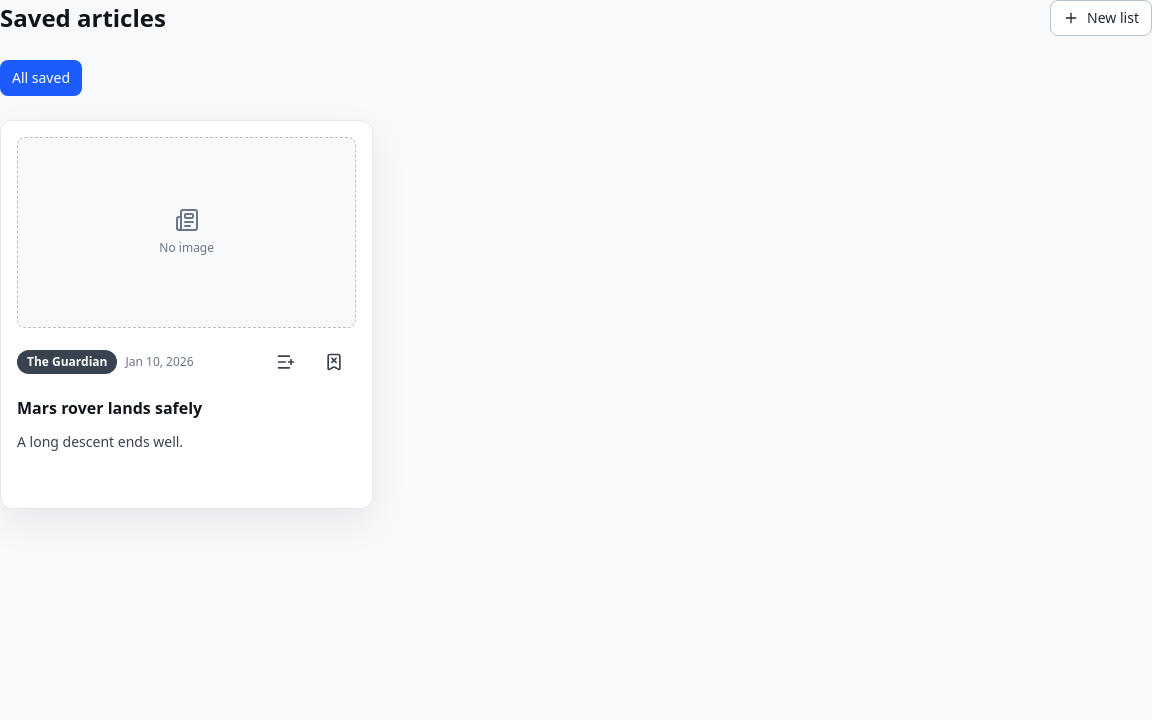
Test: BookmarksPage — reading lists › creates a list from the dialog and says so
Click the button "New list" at (1101, 18), box [1050,0,1151,36]
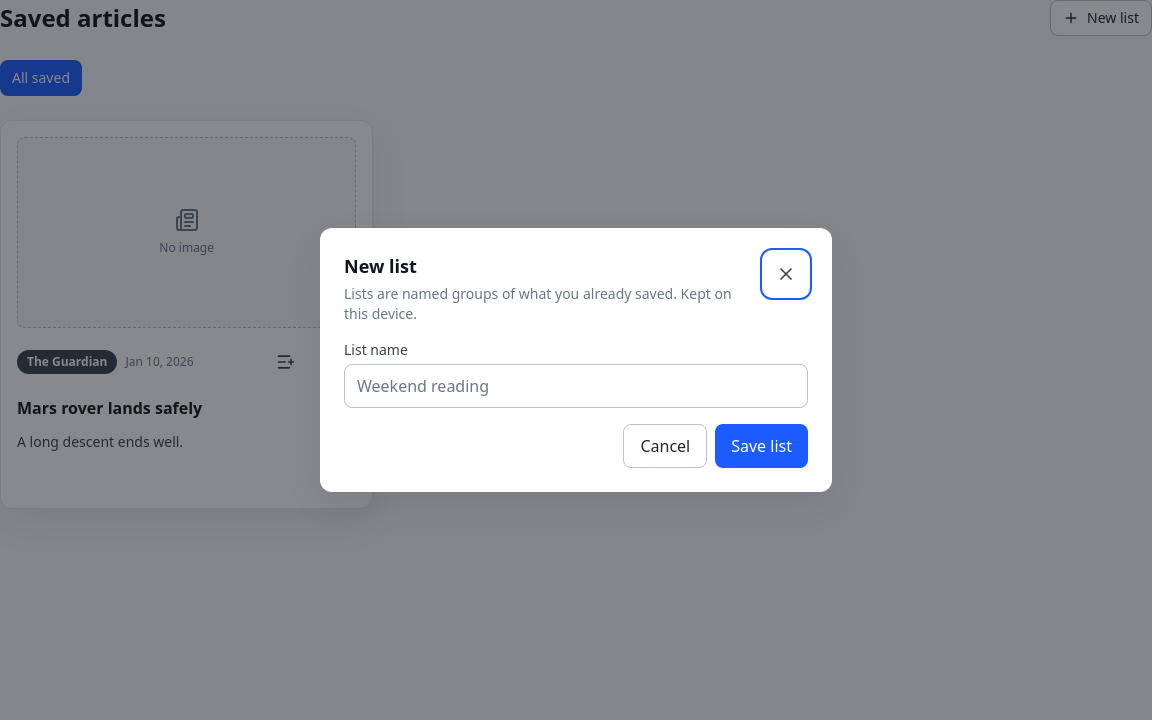
Type "Weekend" into the field labelled "List name" at (576, 386), box [344,364,808,408]
Then press Enter
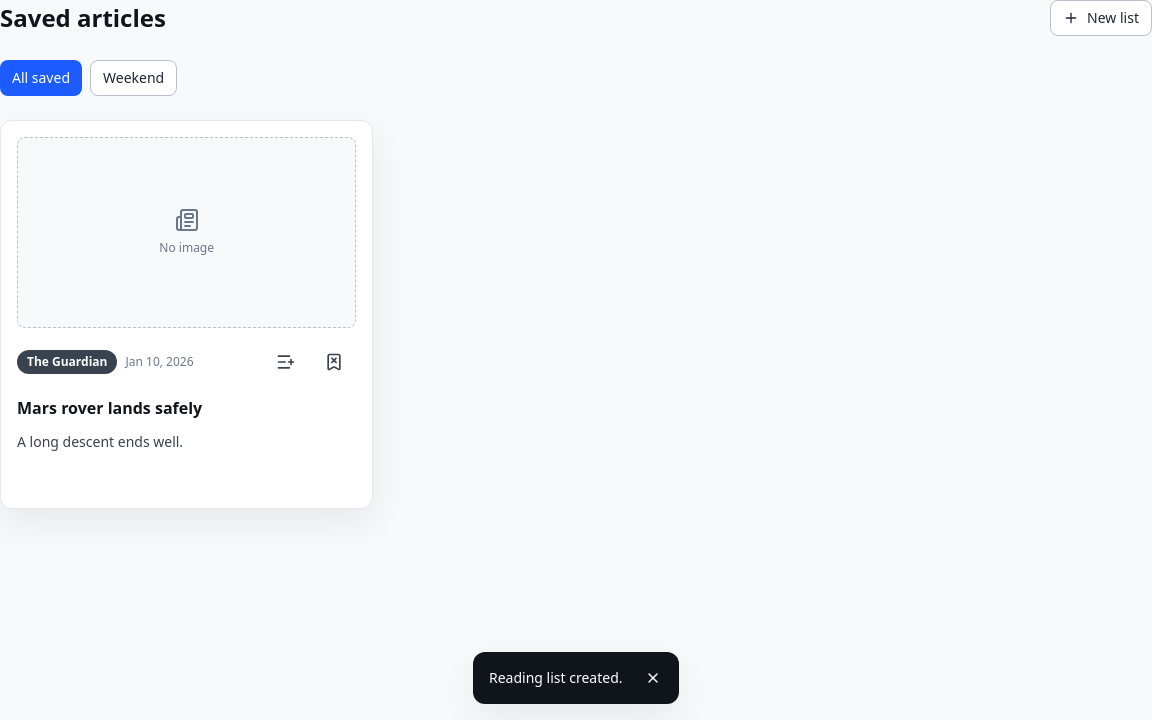
Expected: the button "Weekend" is shown, [90,60,177,96]
Expected: the text "Reading list created." is shown, [489,668,623,688]
